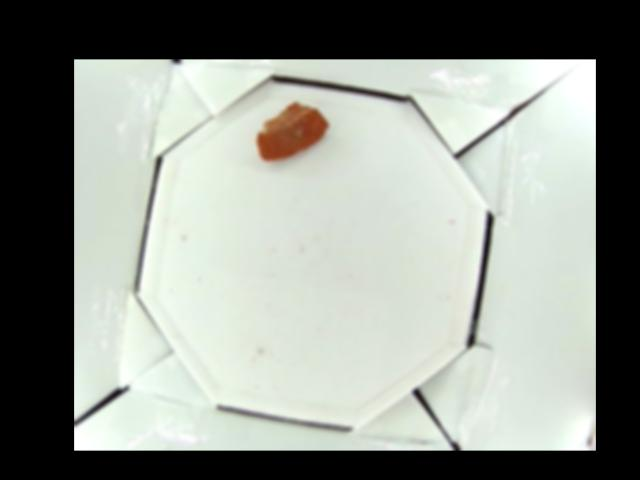Brisk: (256, 99, 325, 160)
